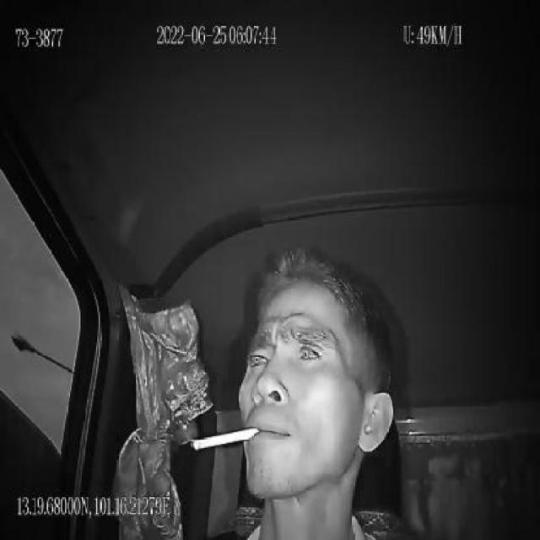smoking: (190, 424, 261, 454)
